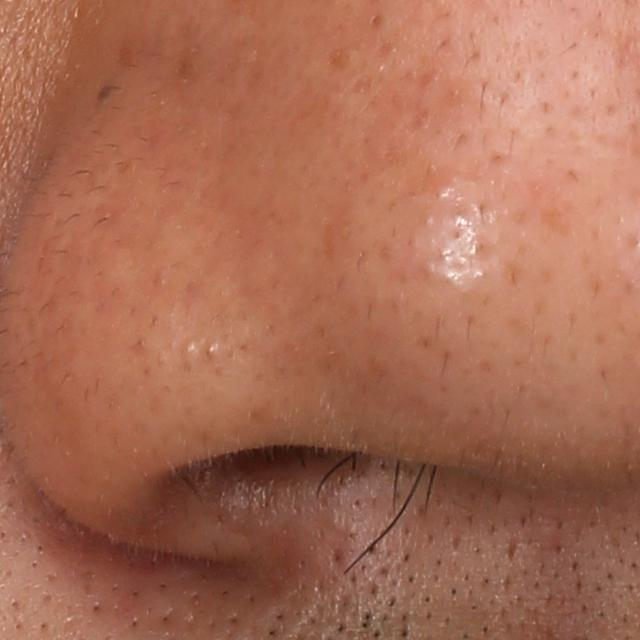nevus: (94, 76, 110, 105)
